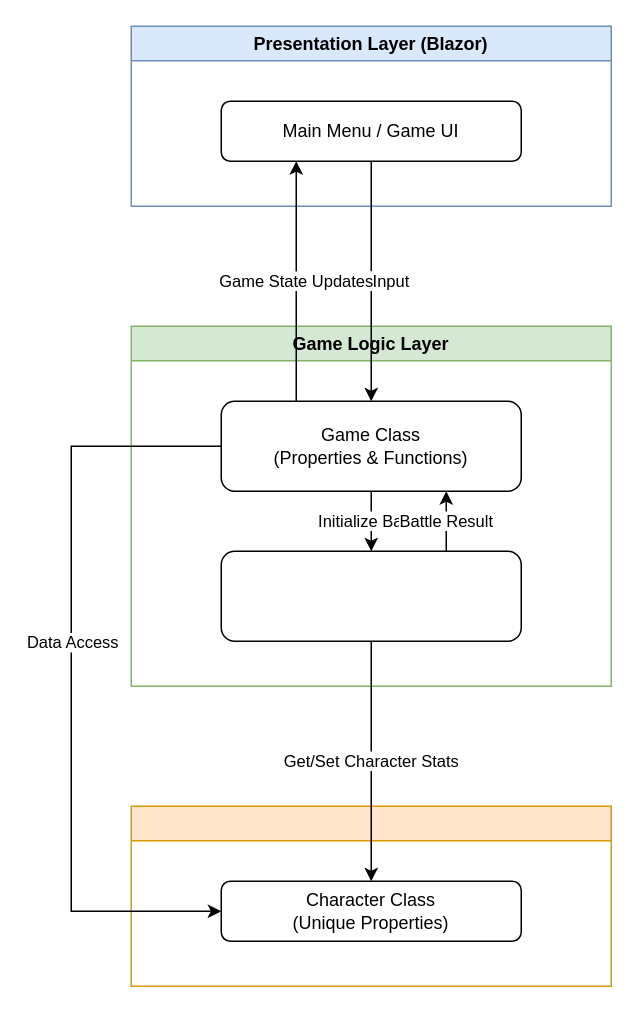
This 638x1013 diagram has some shape labels left out. Here are the shapes that lost their labels. From the top down, the box of each, then its label:
(220, 550, 521, 641): Combat Class (Math & Logic)
(130, 805, 611, 986): Entity Layer
